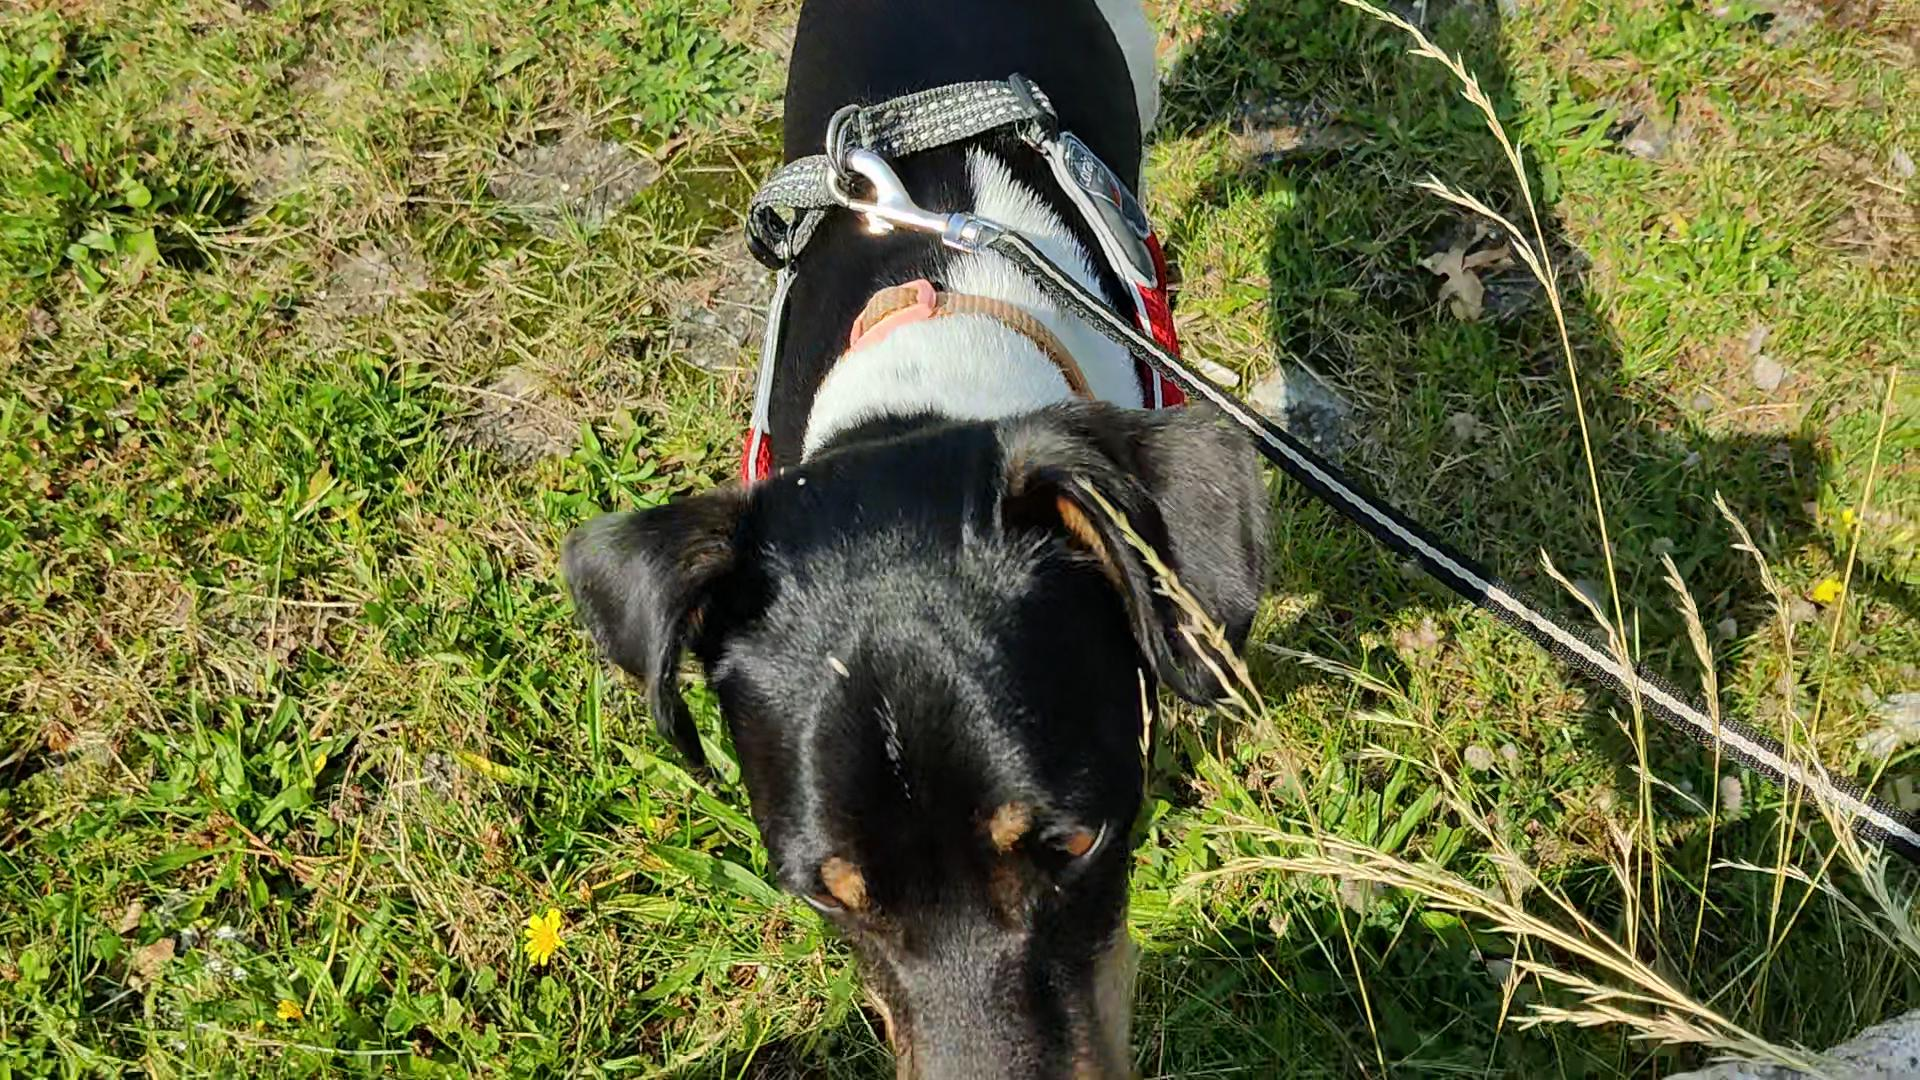Dog: (555, 0, 1279, 1079)
